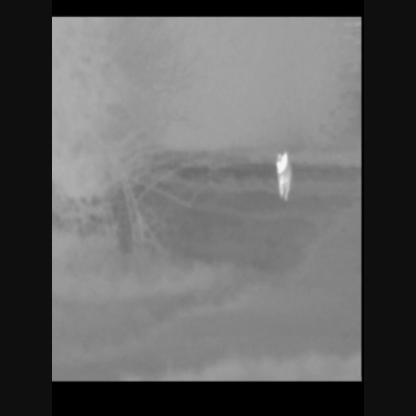rehkitze: (275, 149, 295, 198)
